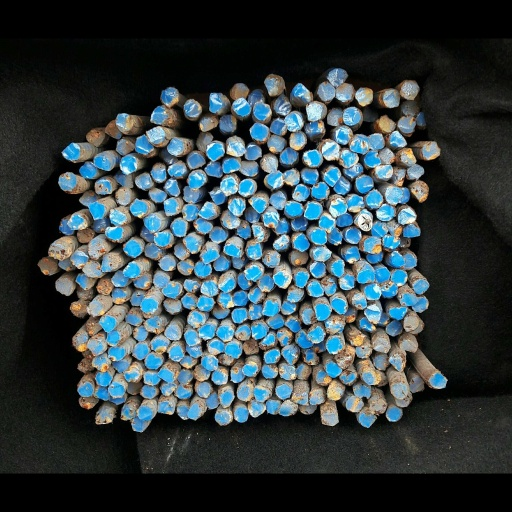dipstick: (116, 114, 140, 135), (135, 135, 156, 157), (264, 74, 284, 95), (48, 241, 70, 260), (305, 120, 324, 140), (327, 68, 348, 86), (93, 153, 115, 170), (305, 103, 327, 120), (267, 134, 286, 153), (284, 112, 303, 131), (350, 135, 369, 154), (400, 80, 419, 99), (317, 81, 335, 101), (104, 120, 122, 139), (58, 172, 77, 190), (150, 106, 169, 124), (184, 98, 202, 117), (272, 97, 291, 115), (294, 84, 313, 102), (336, 83, 355, 101), (333, 176, 352, 194), (356, 174, 374, 193), (55, 278, 75, 295), (303, 150, 323, 167), (412, 181, 428, 202), (147, 126, 165, 144), (161, 87, 179, 105), (206, 142, 224, 160), (220, 178, 238, 196), (199, 201, 217, 219), (322, 142, 340, 160), (340, 149, 358, 167), (329, 198, 347, 216), (422, 141, 440, 159), (61, 142, 80, 159), (88, 241, 107, 258), (250, 123, 269, 140), (233, 98, 250, 117), (356, 87, 373, 106), (383, 89, 400, 108), (385, 186, 402, 205), (239, 160, 259, 176), (364, 304, 380, 324), (79, 161, 97, 178), (119, 156, 137, 173), (39, 257, 57, 274), (70, 251, 88, 268), (144, 316, 162, 333), (129, 199, 147, 216), (183, 186, 201, 203), (200, 115, 218, 132), (222, 211, 240, 228), (273, 271, 291, 288), (280, 148, 298, 165), (335, 126, 352, 144), (376, 204, 394, 221), (372, 336, 390, 353), (86, 129, 105, 145), (83, 261, 102, 277), (101, 254, 120, 270), (86, 300, 105, 316), (297, 329, 313, 348), (269, 191, 285, 210), (327, 107, 343, 126), (324, 167, 340, 186), (363, 237, 382, 253), (401, 100, 421, 115), (132, 343, 149, 360), (133, 272, 150, 289), (153, 270, 170, 287), (163, 198, 180, 215), (210, 188, 227, 205), (209, 226, 226, 243), (307, 326, 324, 343), (257, 275, 274, 292), (228, 199, 245, 216), (219, 115, 236, 132), (254, 103, 271, 120), (288, 132, 305, 149), (343, 107, 360, 124), (346, 395, 363, 412), (390, 131, 407, 148), (390, 382, 407, 399), (116, 139, 134, 155), (144, 213, 160, 231), (194, 218, 212, 234), (135, 172, 153, 188), (168, 161, 186, 177), (279, 400, 297, 416), (273, 235, 291, 251), (285, 201, 303, 217), (292, 184, 310, 200), (362, 369, 380, 385), (398, 208, 416, 224), (162, 282, 181, 297), (78, 395, 98, 409), (208, 92, 222, 112), (124, 240, 141, 256), (72, 335, 89, 351), (181, 293, 198, 309), (194, 364, 210, 381), (224, 342, 241, 358), (177, 259, 194, 275), (116, 188, 132, 205), (183, 237, 200, 253), (182, 204, 198, 221), (188, 153, 205, 169), (168, 138, 184, 155), (281, 348, 298, 364), (244, 265, 261, 281), (251, 225, 267, 242), (287, 286, 304, 302), (293, 234, 309, 251), (248, 197, 265, 213), (267, 172, 284, 188), (312, 182, 329, 198), (301, 168, 318, 184), (270, 118, 286, 135), (347, 196, 364, 212), (360, 410, 376, 427), (398, 116, 415, 132), (379, 115, 396, 131), (364, 150, 380, 167), (371, 220, 387, 237), (391, 269, 407, 286), (76, 274, 94, 289), (140, 298, 158, 313), (214, 411, 232, 426), (200, 249, 218, 264), (313, 246, 331, 261), (226, 141, 244, 156), (385, 320, 403, 335), (68, 215, 87, 229), (112, 271, 128, 287), (199, 323, 215, 339), (145, 243, 161, 259), (195, 261, 211, 277), (219, 276, 235, 292), (296, 364, 312, 380), (274, 218, 290, 234), (310, 262, 326, 278), (308, 281, 324, 297), (314, 304, 330, 320), (304, 203, 320, 219), (238, 180, 254, 196), (326, 338, 342, 354), (366, 192, 382, 208), (389, 252, 405, 268), (412, 296, 428, 312), (388, 355, 404, 371), (94, 179, 111, 194), (79, 191, 96, 206), (89, 202, 104, 219), (70, 302, 87, 317), (145, 354, 162, 369), (150, 338, 167, 353), (164, 298, 181, 313), (183, 278, 200, 293), (159, 255, 176, 270), (171, 219, 186, 236), (165, 179, 180, 196), (205, 162, 222, 177), (263, 252, 280, 267), (345, 246, 360, 263), (321, 279, 336, 296), (340, 370, 357, 385), (407, 164, 424, 179), (429, 373, 446, 388), (107, 347, 125, 361), (222, 158, 240, 172), (352, 292, 366, 310), (353, 385, 371, 399), (59, 219, 74, 235), (77, 228, 93, 243), (110, 210, 126, 225), (123, 262, 139, 277), (99, 316, 115, 331), (87, 340, 103, 355), (108, 382, 124, 397), (136, 406, 152, 421), (165, 325, 181, 340), (196, 382, 211, 398), (218, 392, 234, 407), (237, 386, 253, 401), (249, 402, 265, 417), (202, 355, 218, 370), (212, 369, 227, 385), (253, 386, 269, 401), (217, 326, 233, 341), (213, 256, 229, 271), (266, 399, 281, 415), (243, 339, 259, 354), (231, 308, 247, 323), (232, 291, 248, 306), (262, 301, 278, 316), (251, 323, 266, 339), (277, 330, 292, 346), (302, 308, 317, 324), (238, 274, 253, 290), (294, 271, 309, 287), (263, 212, 279, 227), (311, 229, 327, 244), (245, 145, 261, 160), (284, 169, 299, 185), (232, 83, 248, 98), (319, 216, 335, 231), (346, 228, 361, 244), (331, 298, 346, 314), (365, 284, 381, 299), (369, 134, 385, 149), (400, 149, 415, 165), (376, 165, 392, 180), (374, 267, 390, 282), (381, 282, 397, 297), (408, 377, 424, 392), (92, 357, 109, 371), (95, 410, 112, 424), (123, 368, 140, 382), (175, 384, 192, 398), (184, 331, 201, 345), (201, 281, 218, 295), (149, 187, 166, 201), (321, 412, 338, 426), (328, 228, 342, 245), (357, 269, 374, 283), (369, 399, 386, 413), (389, 307, 408, 319), (78, 382, 93, 397), (133, 326, 148, 341), (169, 346, 184, 361), (233, 407, 248, 422), (188, 312, 203, 327), (219, 293, 234, 308), (276, 384, 291, 399), (235, 325, 250, 340), (249, 288, 264, 303), (292, 216, 307, 231), (262, 156, 277, 171), (326, 362, 341, 377), (316, 370, 331, 385), (403, 316, 418, 331), (106, 226, 122, 240), (131, 418, 147, 432), (143, 371, 159, 385), (158, 369, 174, 383), (208, 340, 224, 354), (197, 296, 213, 310), (154, 232, 170, 246), (262, 364, 278, 378), (280, 366, 296, 380), (267, 314, 283, 328), (309, 390, 325, 404), (280, 300, 296, 314), (247, 243, 261, 259), (291, 251, 307, 265), (248, 91, 264, 105), (339, 275, 355, 289), (327, 386, 343, 400), (356, 344, 372, 358), (413, 280, 429, 294), (386, 407, 402, 421), (185, 344, 202, 357), (206, 392, 219, 409), (263, 350, 280, 363), (383, 235, 400, 248), (400, 292, 417, 305), (399, 340, 416, 353), (112, 289, 126, 304), (106, 331, 120, 346), (95, 386, 109, 401), (141, 385, 156, 399), (121, 405, 135, 420), (130, 291, 144, 306), (177, 369, 192, 383), (242, 362, 257, 376), (248, 304, 262, 319), (402, 254, 417, 268), (298, 403, 317, 414), (95, 372, 111, 385), (158, 401, 174, 414), (188, 404, 201, 420), (285, 319, 301, 332), (224, 245, 241, 257), (336, 214, 353, 226), (332, 260, 344, 277), (403, 224, 420, 236), (230, 368, 244, 382), (160, 383, 176, 395), (213, 306, 229, 318), (126, 313, 141, 325), (177, 405, 188, 419)
